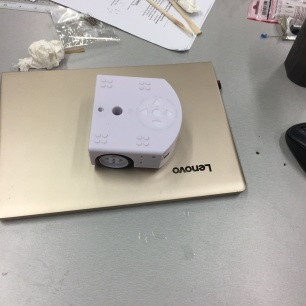thymio: (84, 70, 184, 176)
